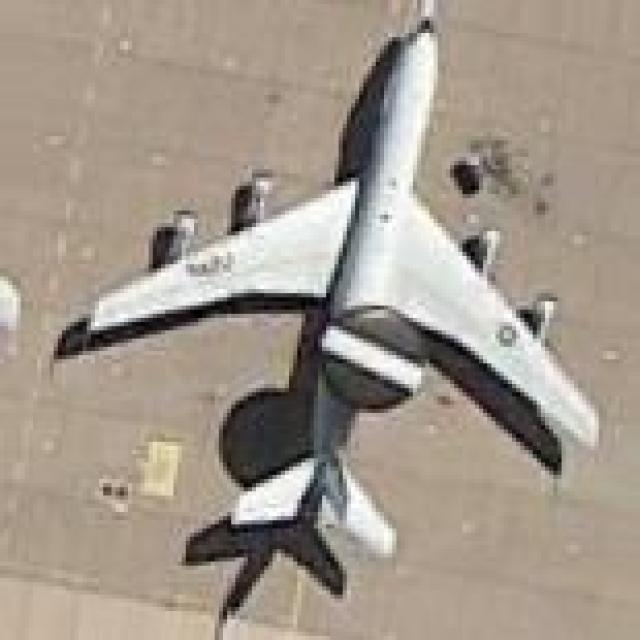E-3_TopDown: (45, 0, 603, 636)
